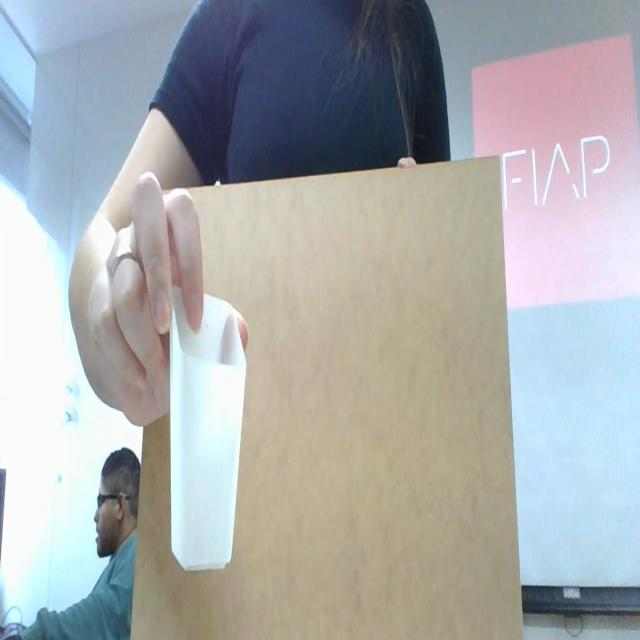erva_daninha: (170, 288, 246, 572)
